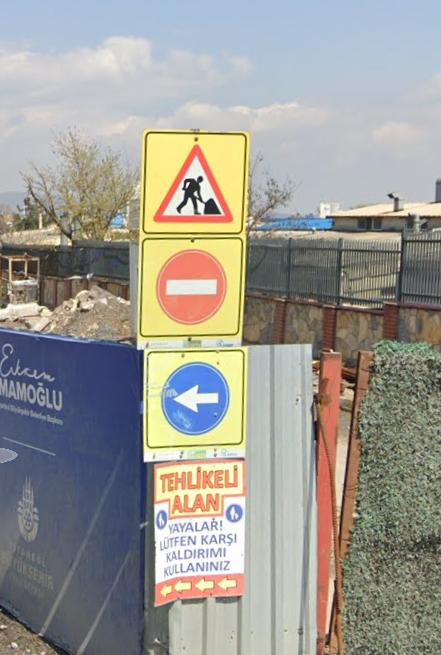turnleft: (148, 352, 241, 443)
